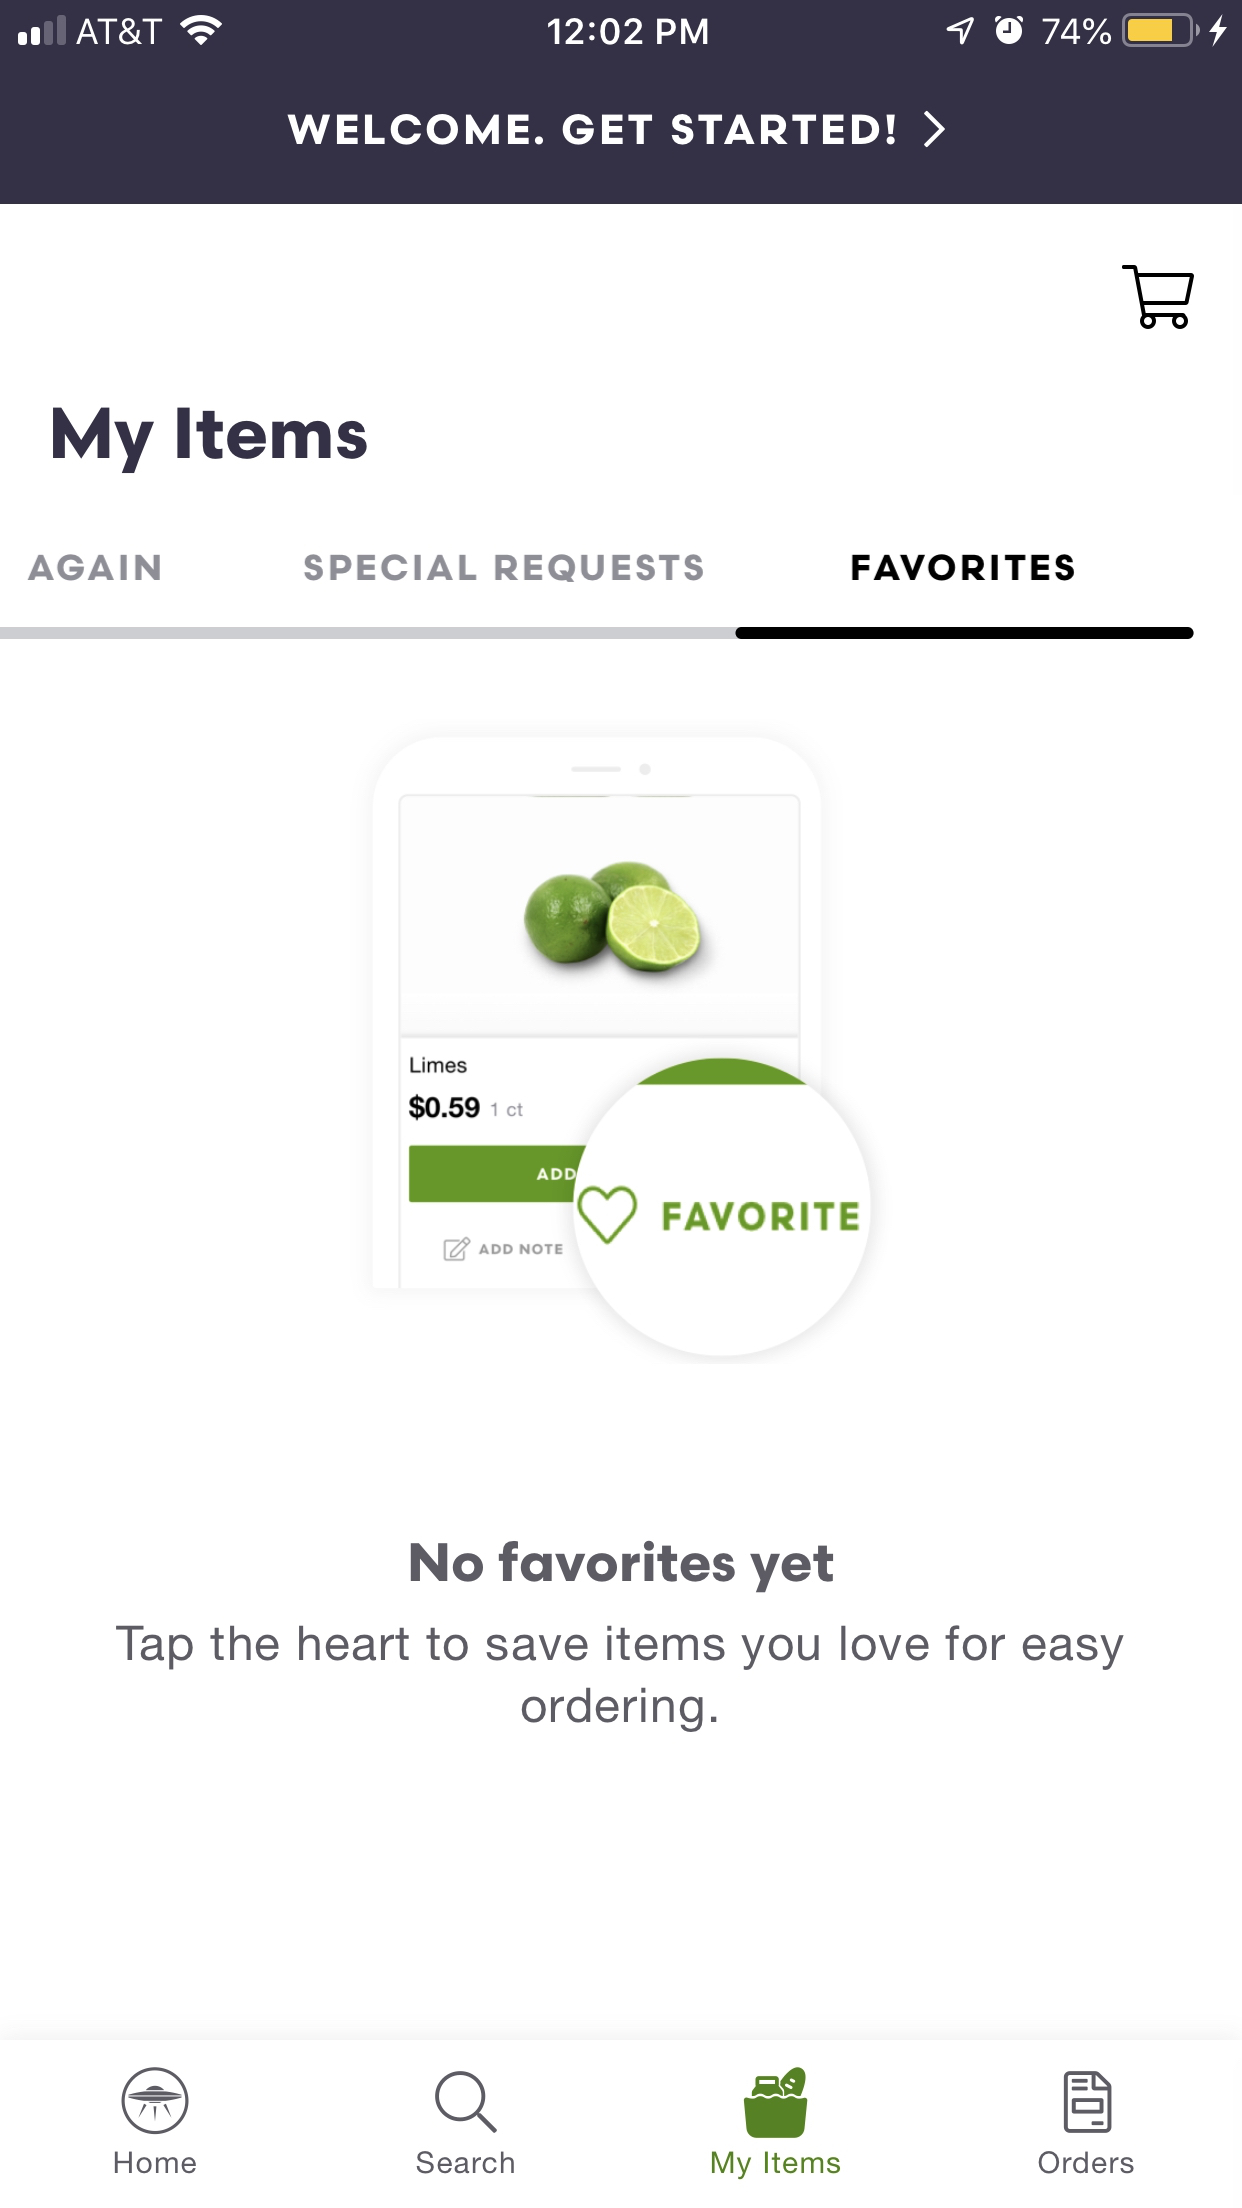Icon: (1121, 265, 1195, 331), (434, 2070, 497, 2134), (1063, 2070, 1113, 2134)
Image: (372, 735, 872, 1357), (121, 2065, 191, 2135), (745, 2065, 808, 2138)
Text: (115, 1624, 1125, 1733), (281, 105, 943, 144), (409, 1541, 834, 1594), (53, 406, 369, 475), (303, 554, 704, 582), (851, 554, 1075, 582), (711, 2150, 842, 2181), (27, 554, 162, 582), (416, 2150, 516, 2175), (1037, 2150, 1134, 2175), (115, 2150, 199, 2175)
UpperTaskBar: (2, 2, 1242, 49)
